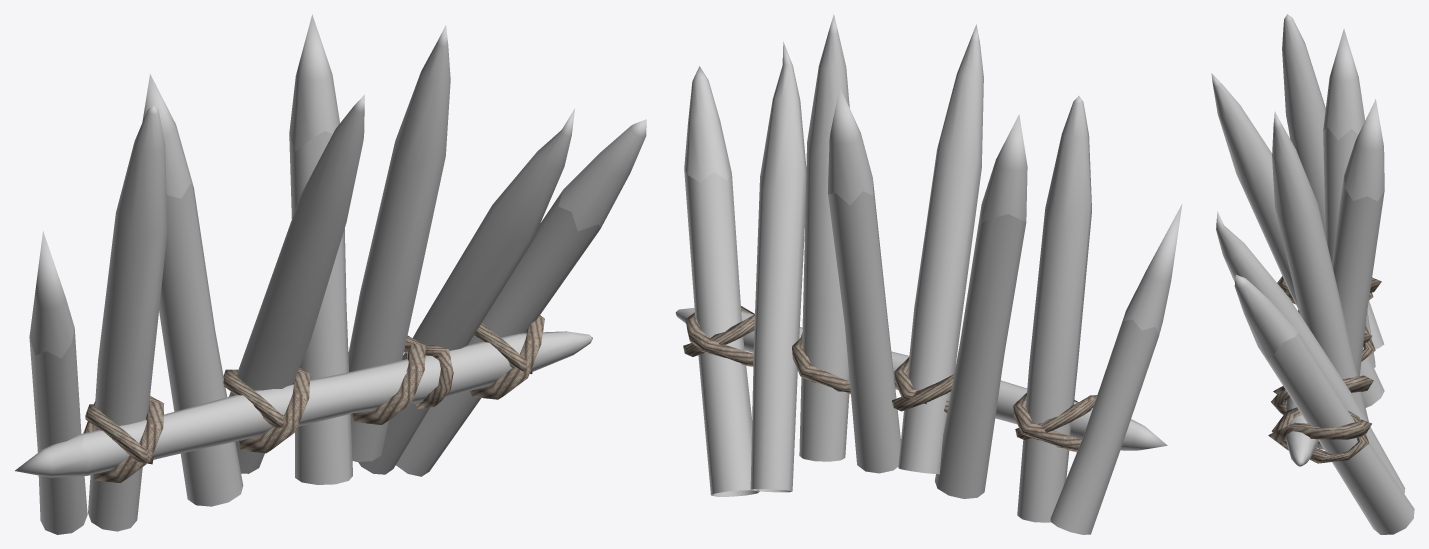
The model's file is Wood_Spikes_A.FBX.
3 views of the same model, side by side, from view 1: azimuth 30°, elevation 25°; view 2: azimuth 150°, elevation 25°; view 3: azimuth 270°, elevation 25° (orthographic). The views are drawn at different scales.
Parts seen in each view (by area): view 1: Wood_Spikes_A; view 2: Wood_Spikes_A; view 3: Wood_Spikes_A.
Boxes of the visible parts, x1,y1,x2,y2 form: Wood_Spikes_A: (15, 14, 646, 534); Wood_Spikes_A: (675, 14, 1182, 534); Wood_Spikes_A: (1211, 14, 1414, 534).
Bounding box in the file's own units: 263 × 219 × 99.65.
